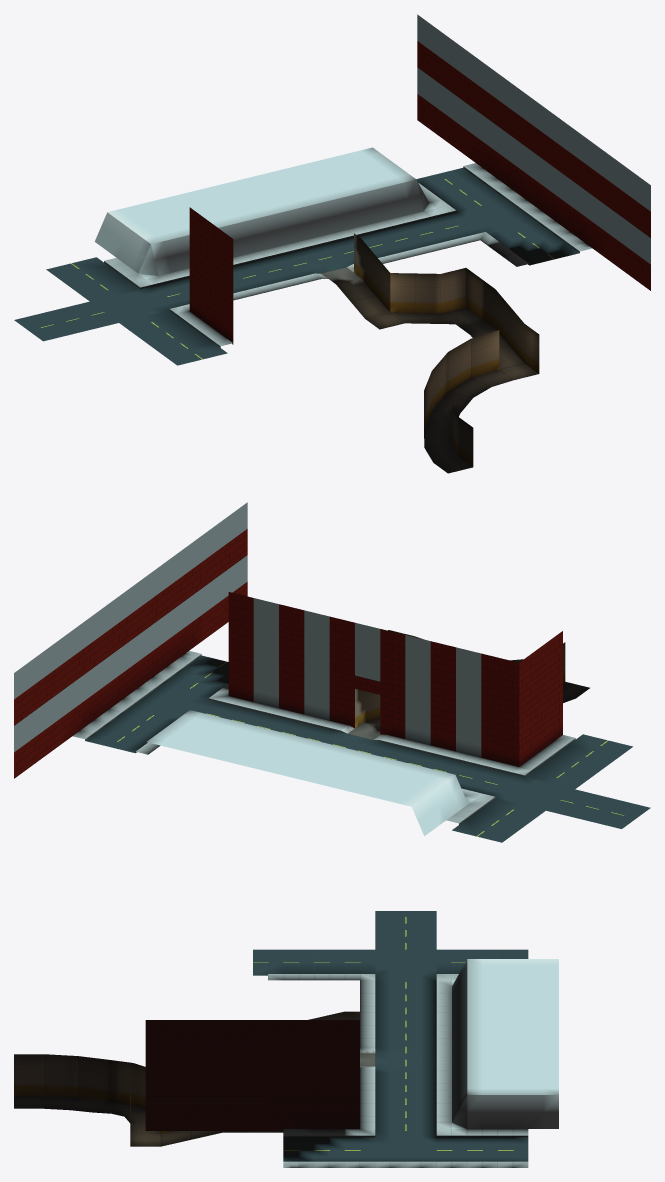
The model's file is underground-1.gltf.
3 renders of one model, top to bottom at view 1: azimuth 30°, elevation 25°; view 2: azimuth 150°, elevation 25°; view 3: azimuth 270°, elevation 25°, orthographic. The views are drawn at different scales.
Parts seen in each view (by area): view 1: default; view 2: default; view 3: default.
Boxes of the visible parts, x1,y1,x2,y2 form: default: (14, 14, 650, 473); default: (14, 502, 650, 842); default: (14, 911, 558, 1167).
Size of the model in its own units: 160 by 51.5 by 166.
Materials: 1 (1 with a texture image).
